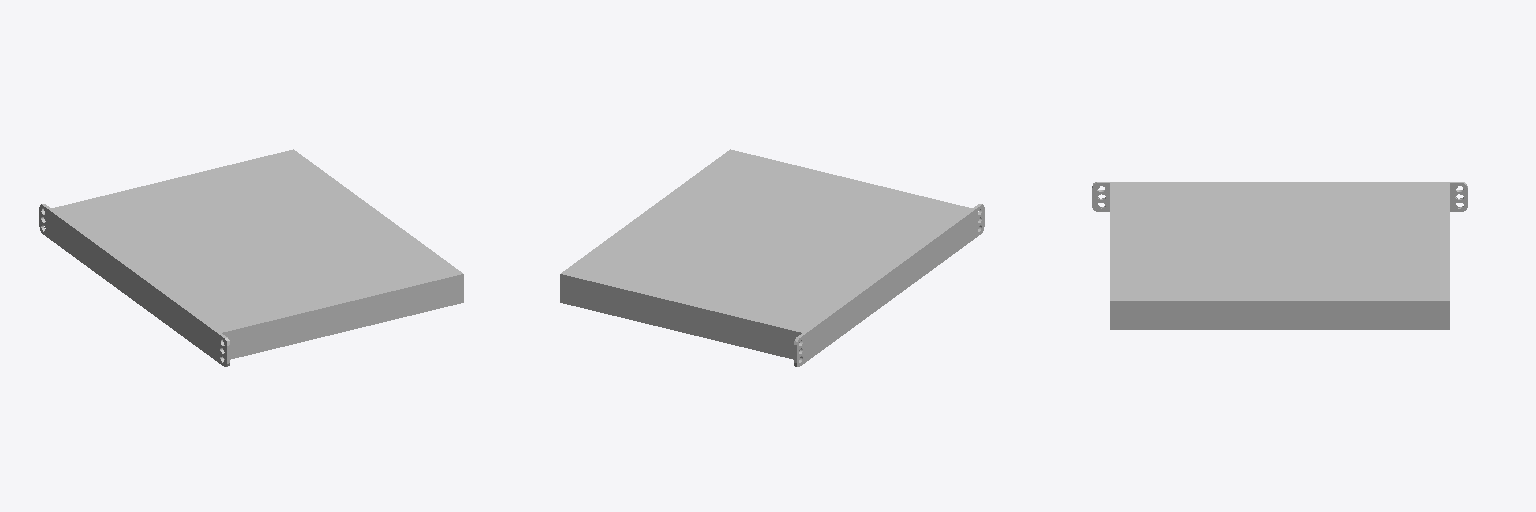
Rendered from (18) BlueCoat.obj.
3 views of the same model, side by side, from view 1: azimuth 30°, elevation 25°; view 2: azimuth 150°, elevation 25°; view 3: azimuth 270°, elevation 25° (orthographic).
Visible parts, largest first — view 1: unit_Cube.001; view 2: unit_Cube.001; view 3: unit_Cube.001.
Boxes of the visible parts, x1=… form: unit_Cube.001: x1=39, y1=149, x2=463, y2=366; unit_Cube.001: x1=560, y1=149, x2=984, y2=366; unit_Cube.001: x1=1092, y1=182, x2=1467, y2=329.
Size of the model in its own units: 0.4 by 0.045 by 0.53.